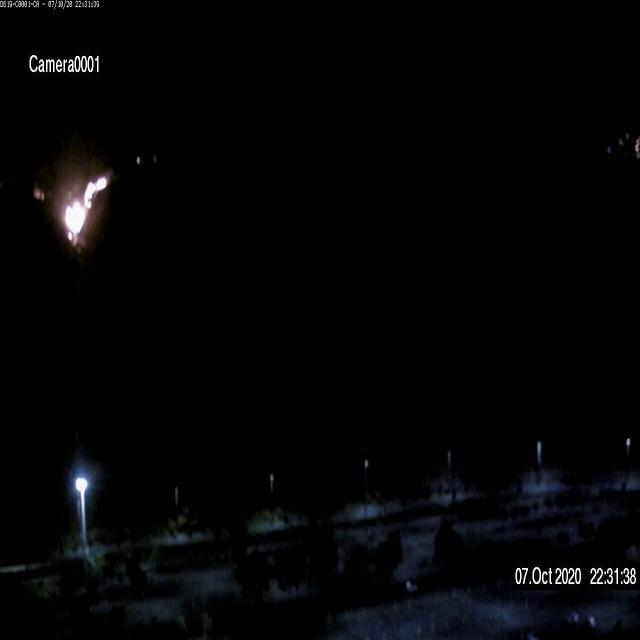Fire: (62, 170, 112, 242)
Smoke: (42, 136, 116, 252)
